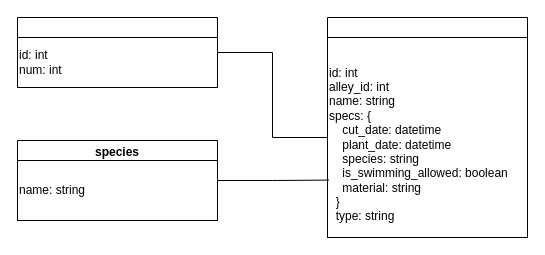
This 545x255 diagram has some shape labels left out. Each missing label, with the box of its shape:
alleys: (16, 16, 218, 88)
items: (326, 16, 528, 238)
